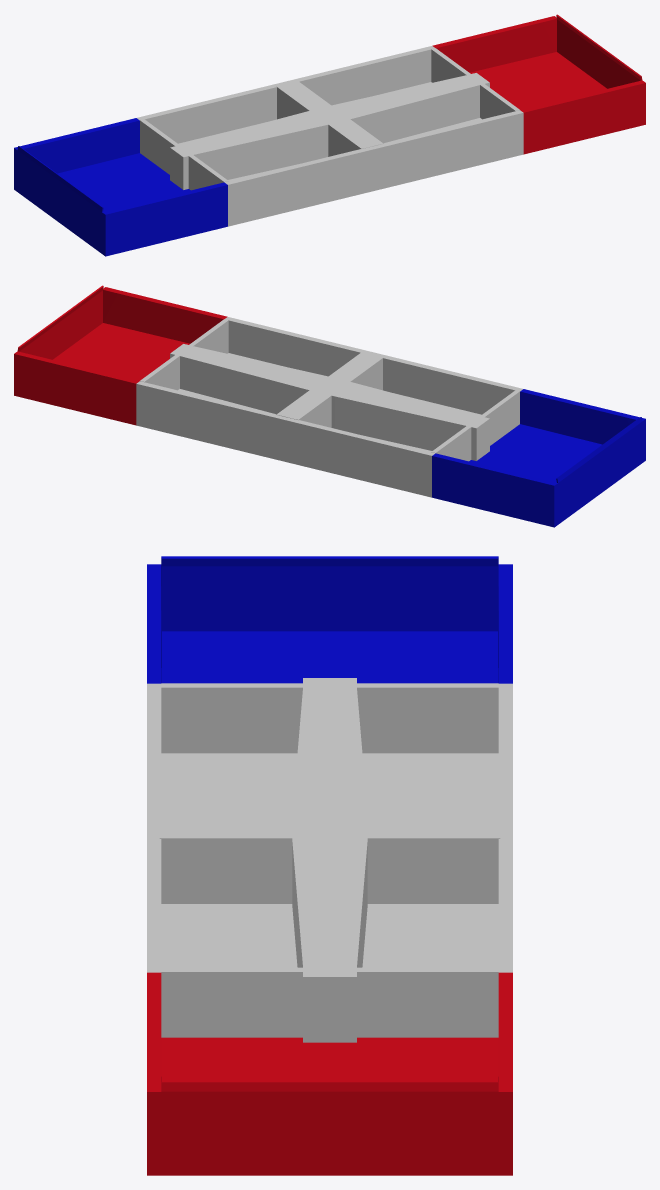
File: SwitchCustom.fbx
3 renders of one model, top to bottom at view 1: azimuth 30°, elevation 25°; view 2: azimuth 150°, elevation 25°; view 3: azimuth 270°, elevation 25°, orthographic. The views are drawn at different scales.
Parts seen in each view (by area): view 1: Cube; view 2: Cube; view 3: Cube.
Part boxes in pixels (x1=…): Cube: x1=14, y1=14, x2=645, y2=256; Cube: x1=14, y1=285, x2=645, y2=527; Cube: x1=147, y1=556, x2=512, y2=1175.
Size of the model in its own units: 686 by 55.89 by 201.
